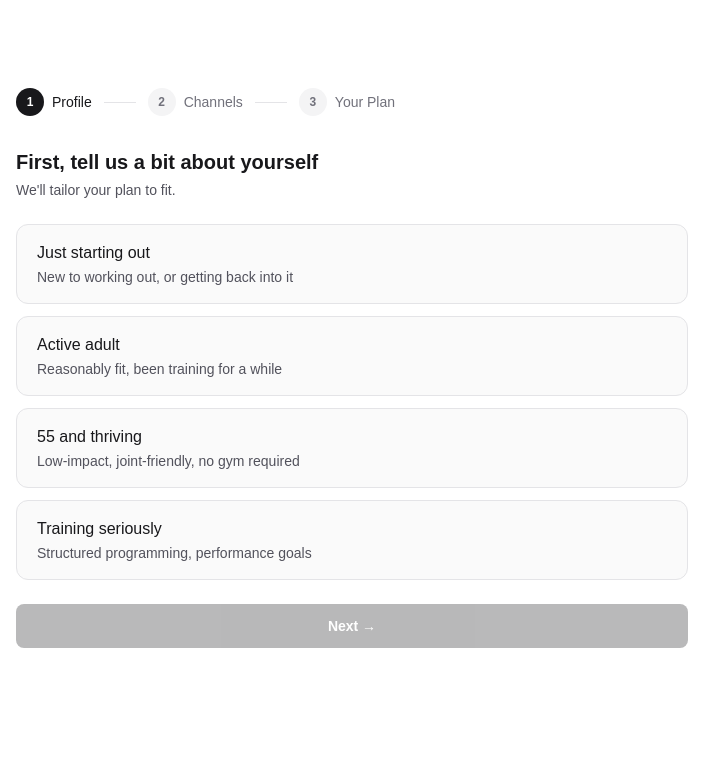
it: OnboardingPage - Step 1 (Life Stage) › selecting a life stage then clicking Next advances to step 2
Expected: the heading "First, tell us a bit about yourself" is shown, [16,151,318,173]
Click the text "Active adult" at coordinates (78, 344), box [37,336,120,353]
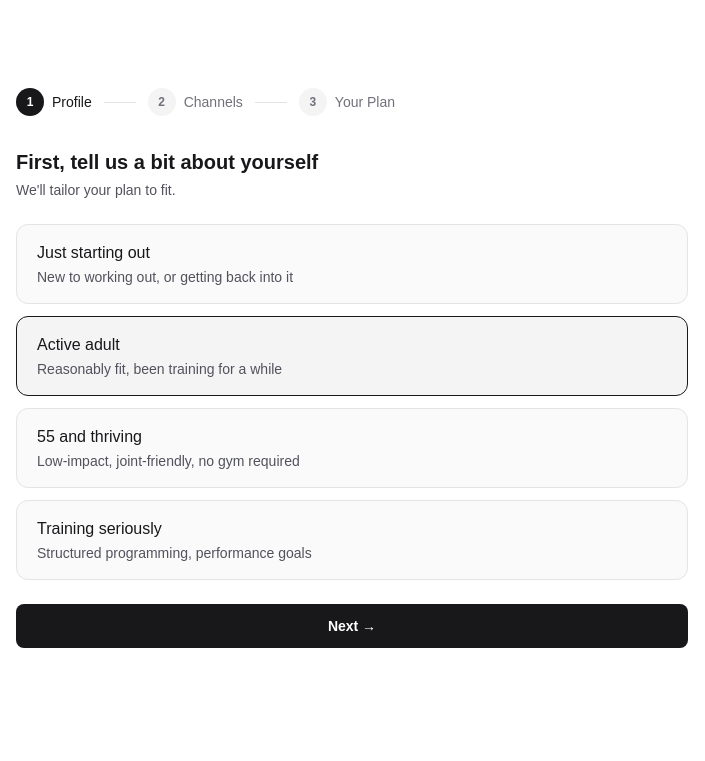
Click the button "Next →" at coordinates (352, 626), box [16,604,688,648]
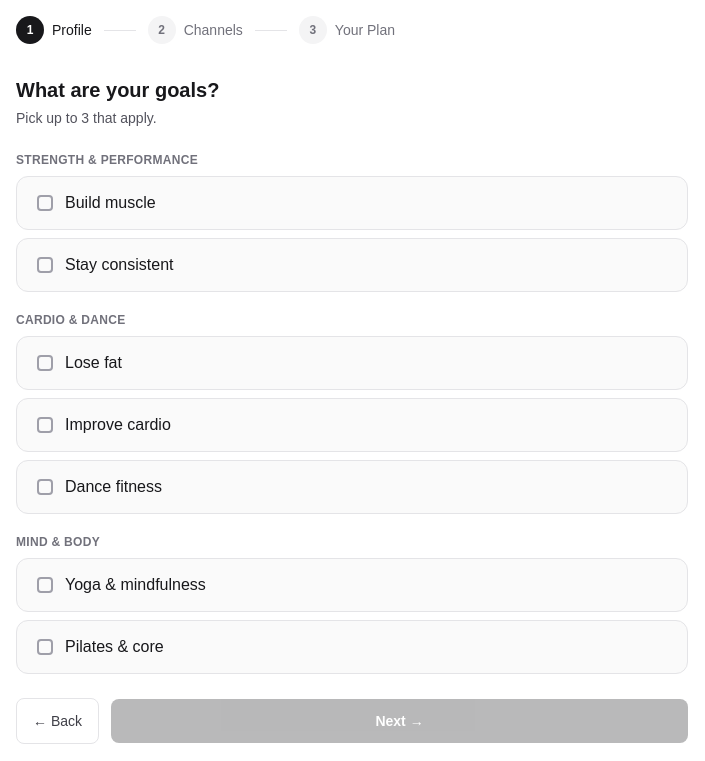
Expected: the heading "What are your goals?" is shown, [16,79,219,101]
